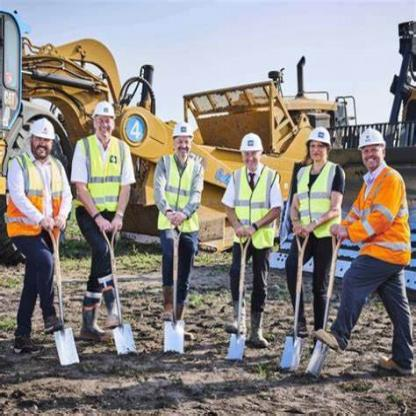person: (344, 110, 415, 378), (282, 107, 345, 382), (71, 83, 135, 351), (8, 102, 74, 359), (150, 105, 213, 353), (217, 117, 277, 354)
